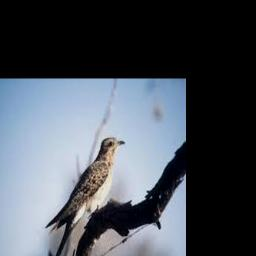Cuckoo: (45, 137, 125, 256)
